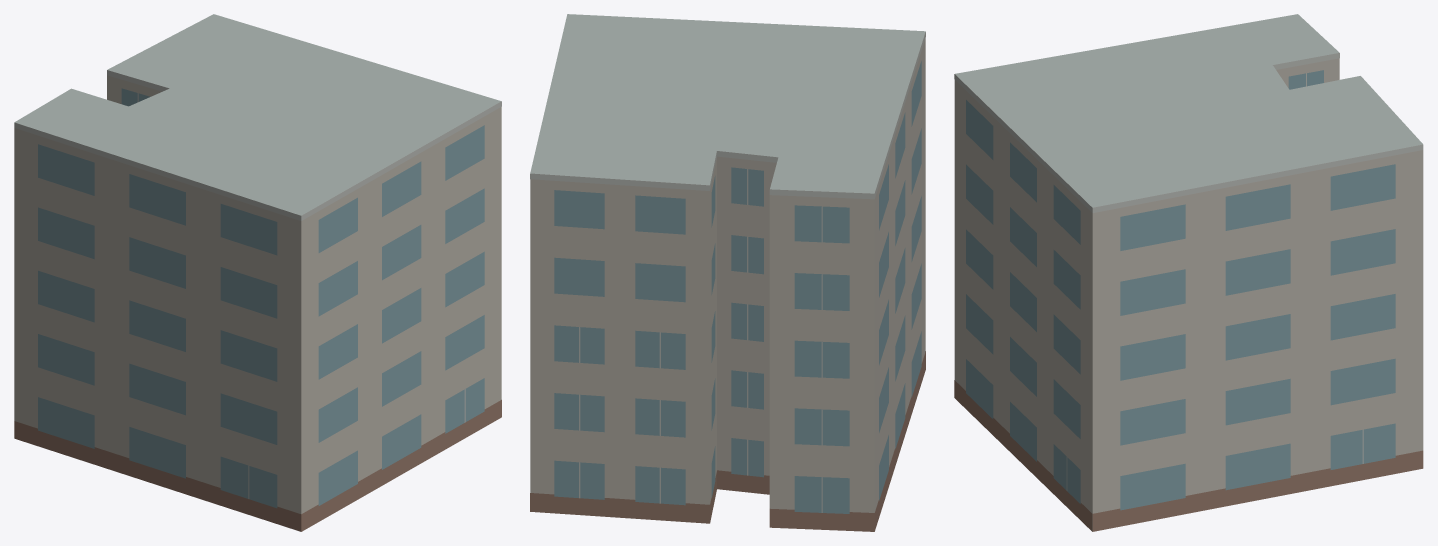
The model's file is survey-upis-32845580.glb.
3 renders of one model, left to right at view 1: azimuth 30°, elevation 25°; view 2: azimuth 150°, elevation 25°; view 3: azimuth 270°, elevation 25°, orthographic. The views are drawn at different scales.
Visible parts, largest first — view 1: survey-upis-32845580.tmp; view 2: survey-upis-32845580.tmp; view 3: survey-upis-32845580.tmp.
Part boxes in pixels (x1=…): survey-upis-32845580.tmp: x1=14, y1=14, x2=501, y2=531; survey-upis-32845580.tmp: x1=530, y1=14, x2=925, y2=531; survey-upis-32845580.tmp: x1=954, y1=14, x2=1423, y2=531.
Bounding box in the file's own units: 18.54 × 14.45 × 18.96.
